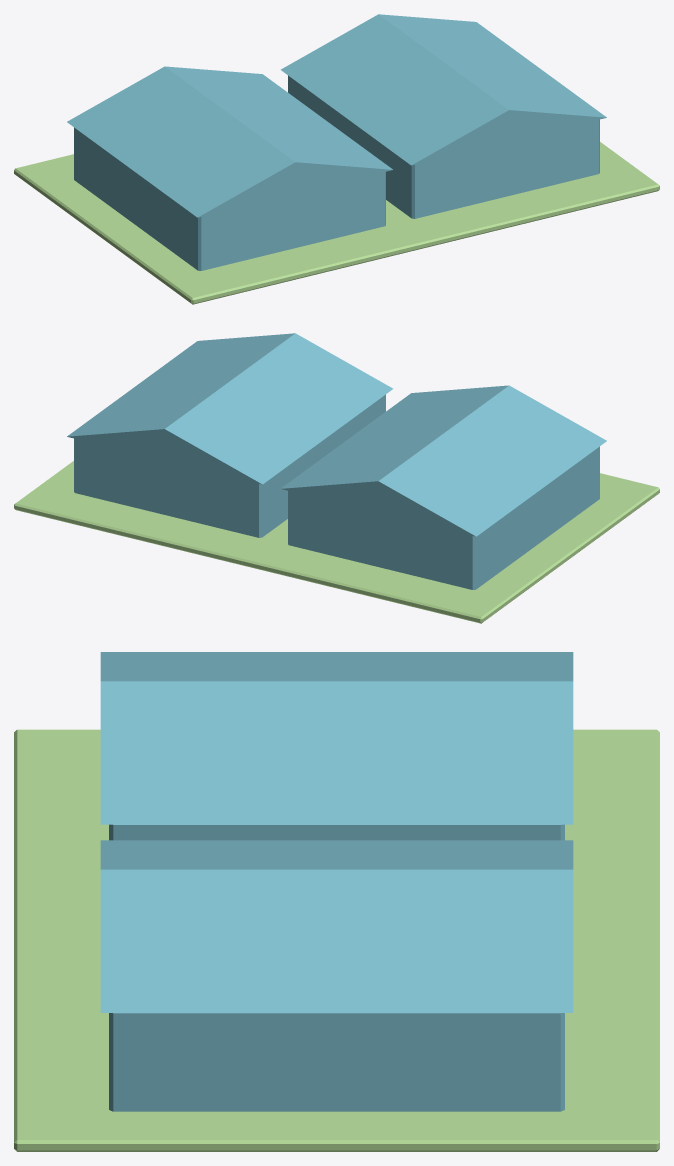
The model's file is AGR_GREENHOUSE_3x2_001.glb.
3 renders of one model, top to bottom at view 1: azimuth 30°, elevation 25°; view 2: azimuth 150°, elevation 25°; view 3: azimuth 270°, elevation 25°, orthographic. The views are drawn at different scales.
Parts seen in each view (by area): view 1: AGR_GREENHOUSE_3x2_001_Visual; view 2: AGR_GREENHOUSE_3x2_001_Visual; view 3: AGR_GREENHOUSE_3x2_001_Visual.
Boxes of the visible parts, left/top/right/bottom form: AGR_GREENHOUSE_3x2_001_Visual: left=14, top=14, right=659, bottom=304; AGR_GREENHOUSE_3x2_001_Visual: left=14, top=333, right=659, bottom=623; AGR_GREENHOUSE_3x2_001_Visual: left=14, top=652, right=659, bottom=1151.
Size of what is drawn, in the model's own units: 5.9 by 1.14 by 3.9.
